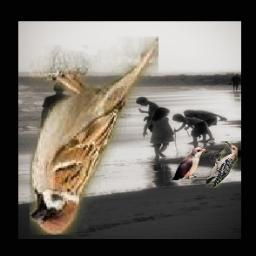Cuckoo: (172, 146, 206, 180)
Sparrow: (30, 37, 158, 236)
Woodpecker: (206, 142, 239, 189)
